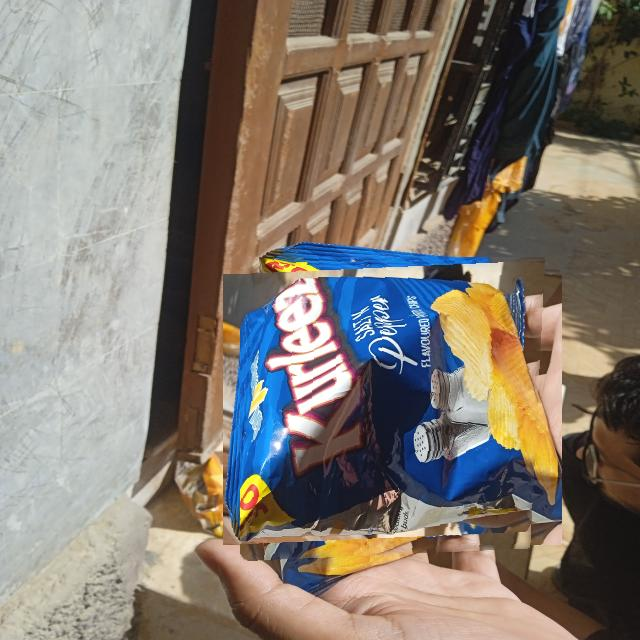Plastic: (240, 257, 546, 562)
